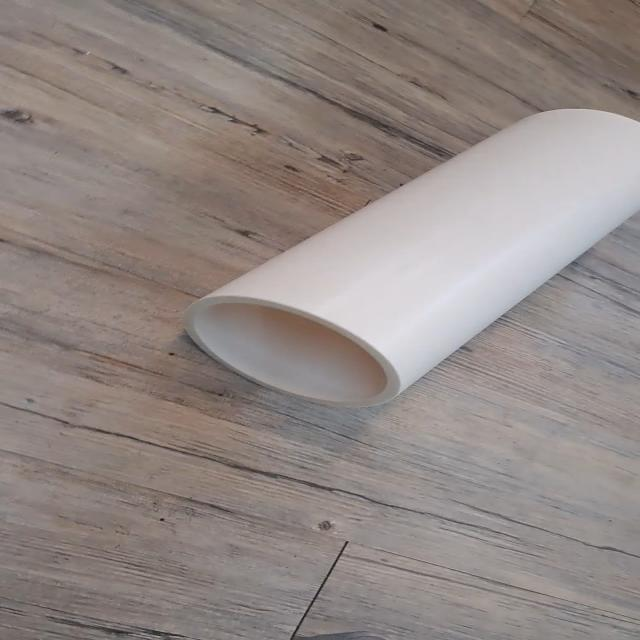CORAL: (166, 92, 640, 414)
